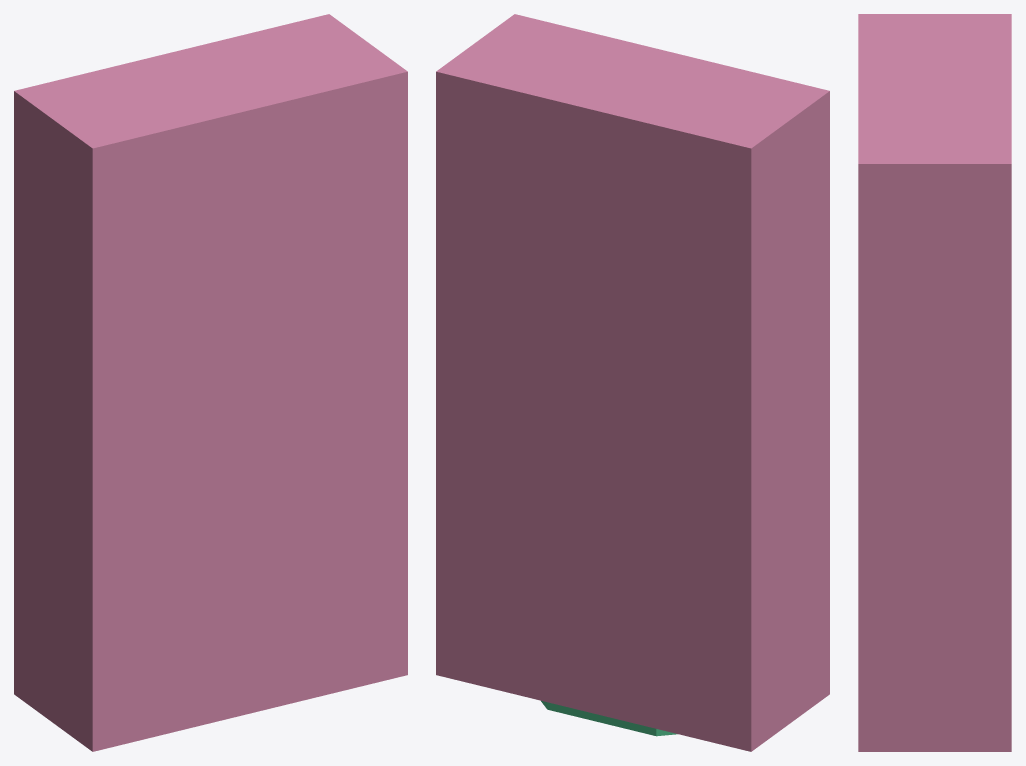
The model's file is billboards_02_a.dae.
The picture shows the model from 3 angles, left to right: view 1: azimuth 30°, elevation 25°; view 2: azimuth 150°, elevation 25°; view 3: azimuth 270°, elevation 25°; orthographic projection. The views are drawn at different scales.
Visible parts, largest first — view 1: Untitled; view 2: Untitled, Colmesh-1; view 3: Untitled.
Boxes of the visible parts, box(x1,y1,x2,y2) form: Untitled: box(14, 14, 407, 751); Untitled: box(436, 14, 829, 751); Colmesh-1: box(541, 700, 677, 736); Untitled: box(858, 14, 1011, 751).
Bounding box in the file's own units: 3.12 × 1.35 × 5.85.
